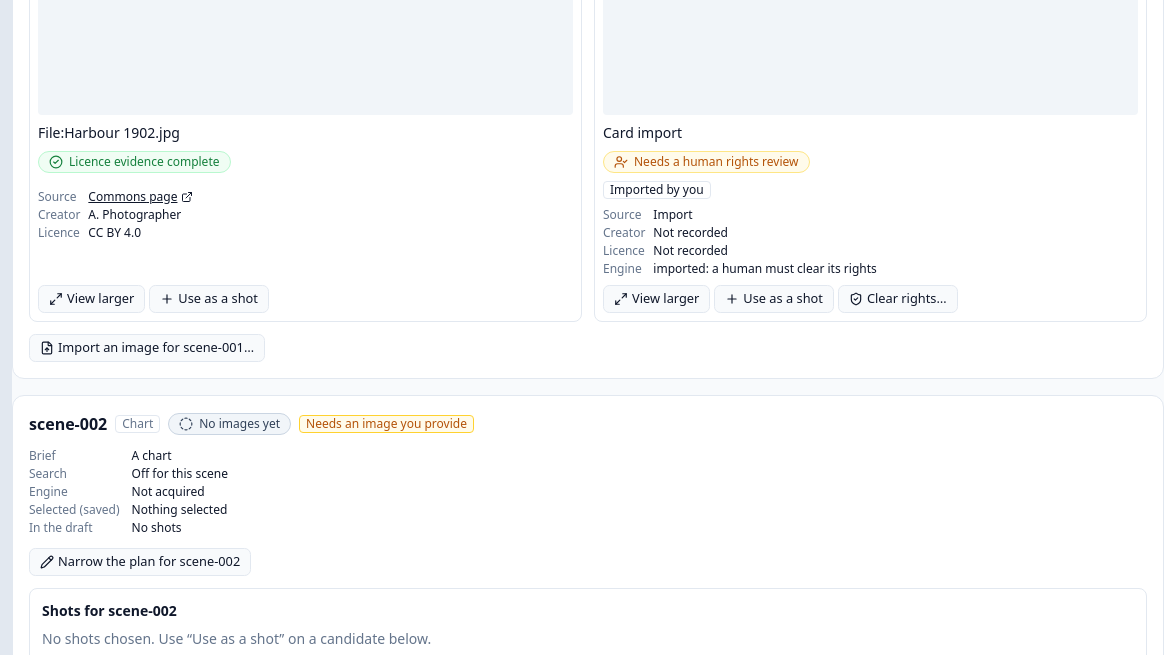
Test: selection › keeps the unsaved shots and offers a reload on a revision conflict
(page scrolled)
Click the button named "Use as a shot: File:Harbour". click: click(209, 299)
box: [149,285,269,313]
(page scrolled)
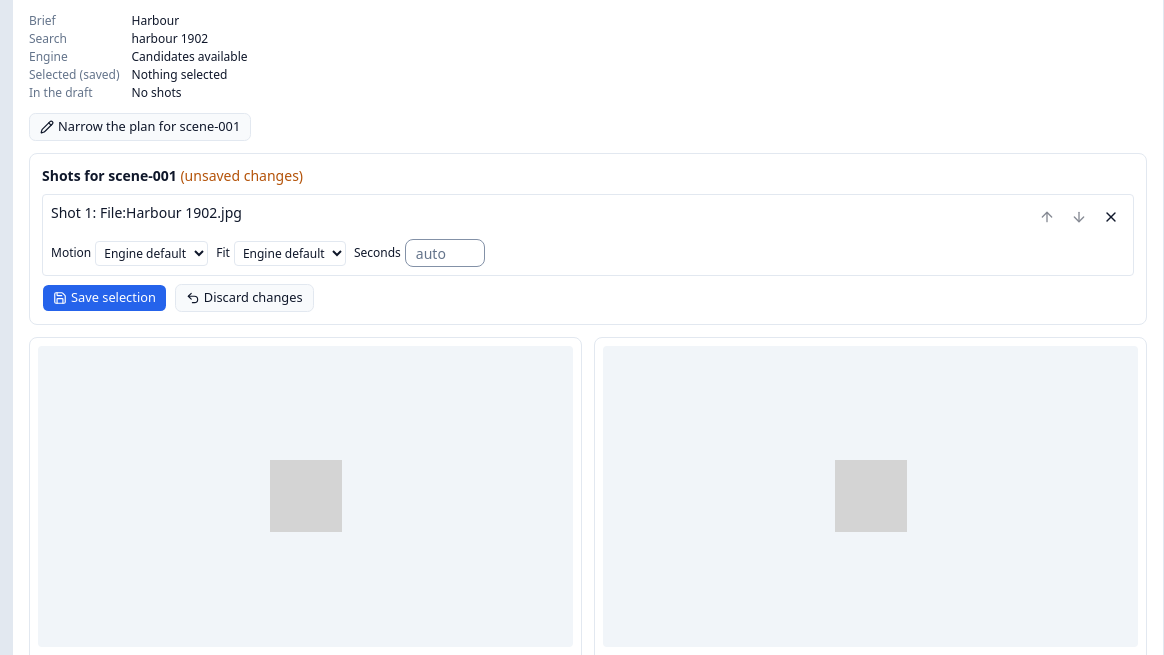
Click the button "Save selection". click: click(104, 298)
box: [42,284,167,312]
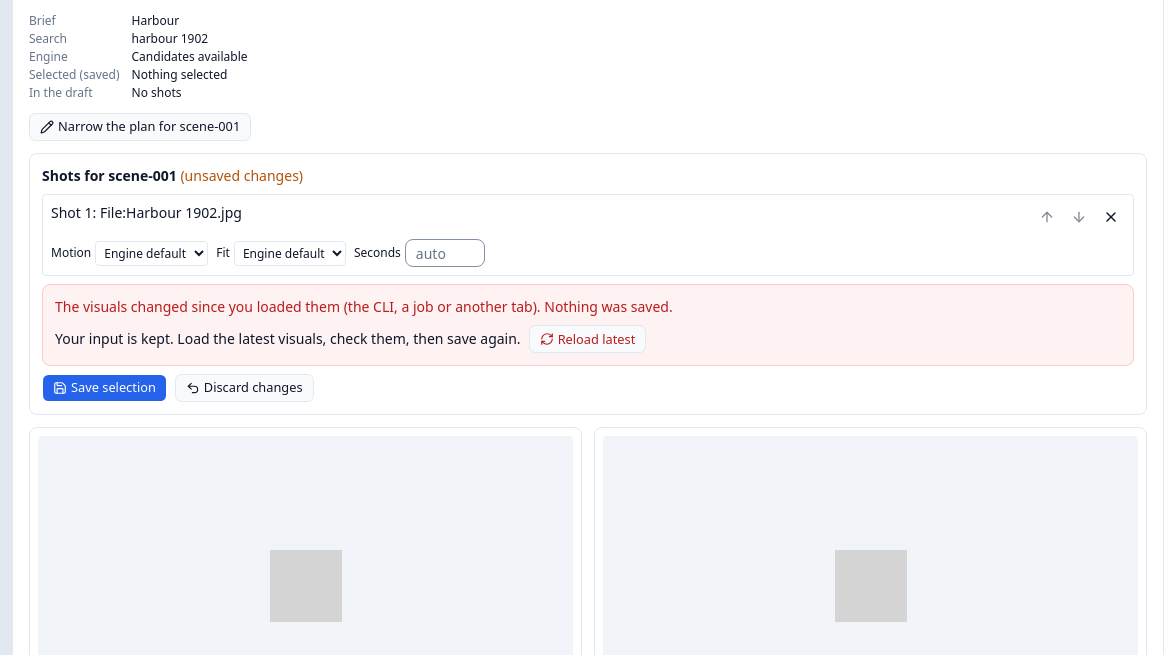
Check: the text "Shot 1:" is shown, box [51,203,96,222]
Check: the text "The visuals changed since you loaded them" is shown, box [55,297,673,316]
Check: the button "Reload latest" is shown, box [529,325,646,353]
